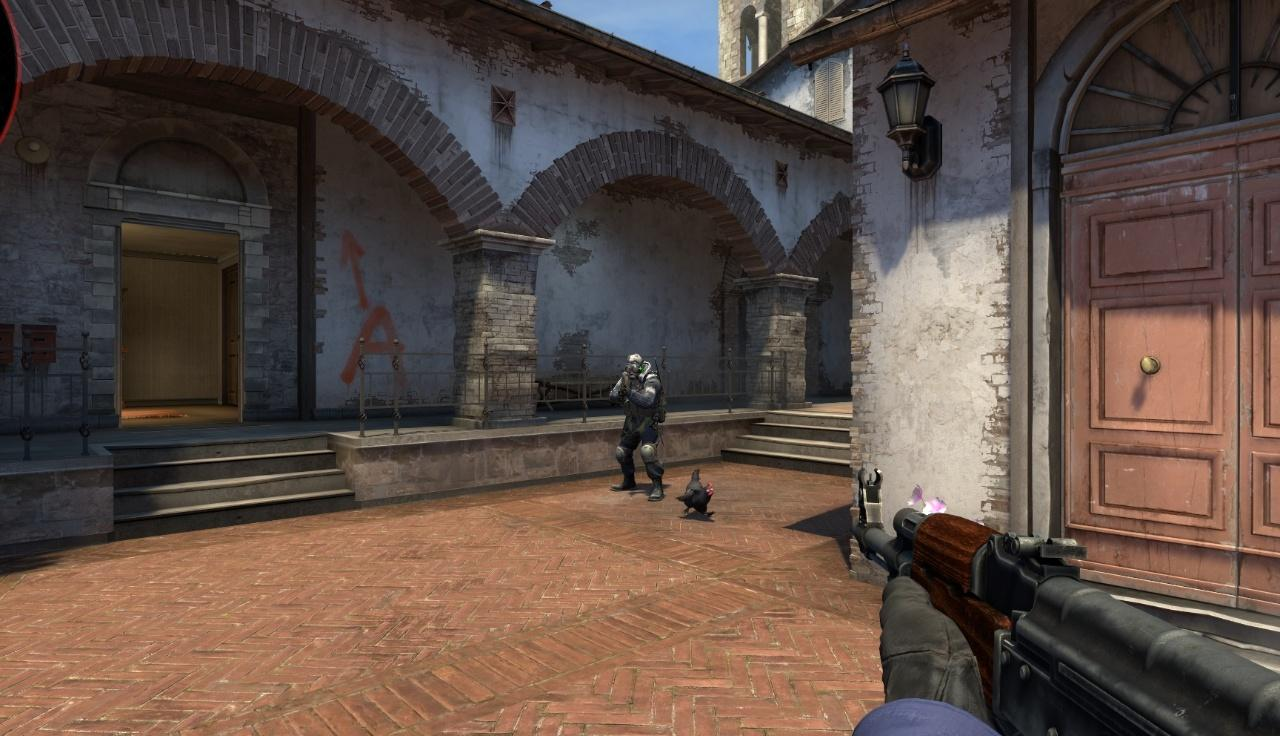ct: (611, 353, 667, 502)
cthead: (624, 354, 644, 377)
rifle: (848, 461, 1280, 736)
